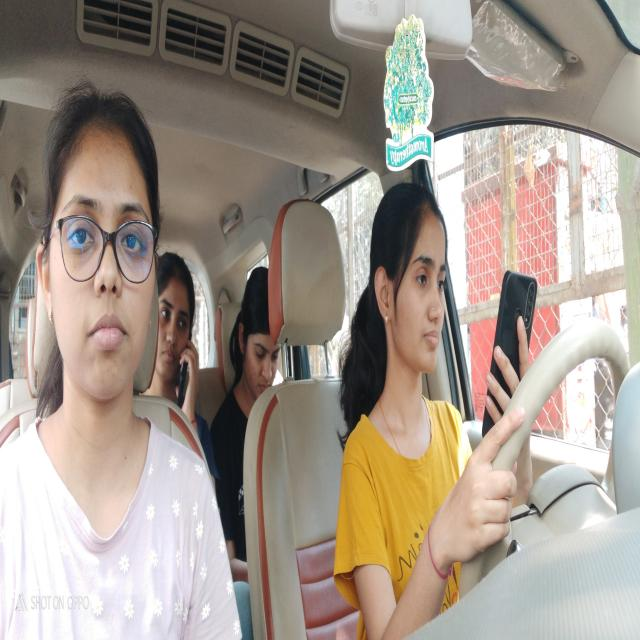mobile: (483, 264, 542, 454)
person: (38, 78, 160, 413), (368, 184, 453, 400), (235, 248, 287, 411), (158, 247, 197, 431)
